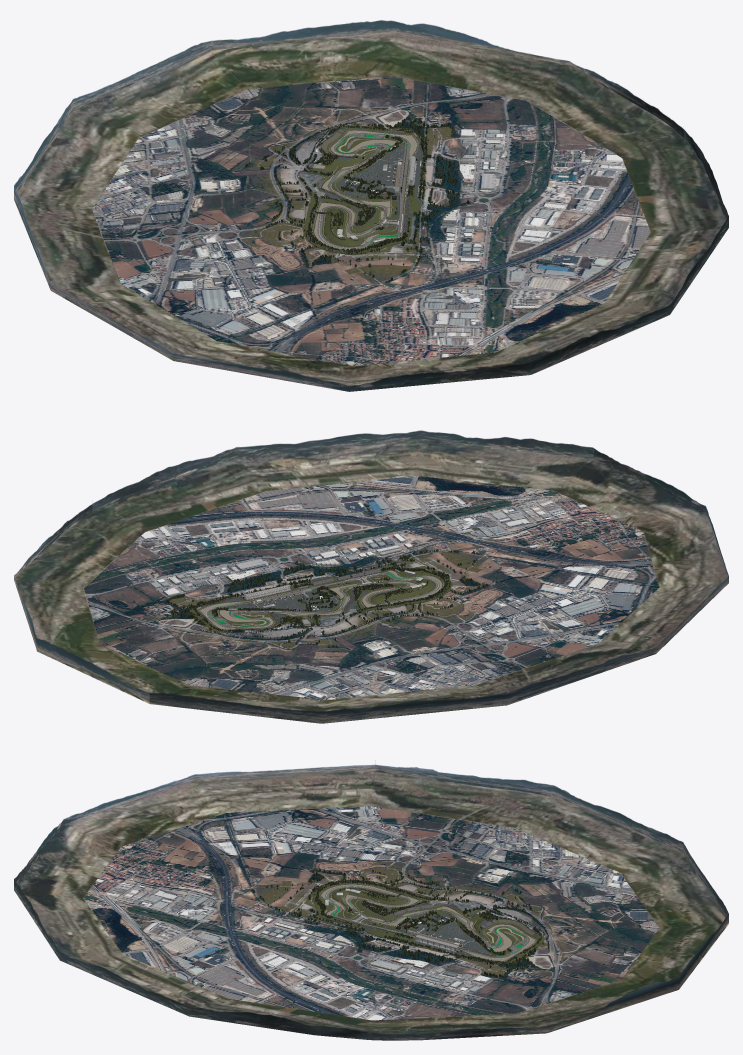
Rendered from barcelona.clean.glb.
3 views of the same model, one above another, from view 1: azimuth 30°, elevation 25°; view 2: azimuth 150°, elevation 25°; view 3: azimuth 270°, elevation 25° (orthographic). The views are drawn at different scales.
Parts seen in each view (by area): view 1: Object_92, Object_78, Object_31, Object_58, Object_95, Object_114, Object_21, Object_65, Object_94; view 2: Object_92, Object_78, Object_58, Object_31, Object_95, Object_114, Object_21, Object_65, Object_94, Object_116; view 3: Object_92, Object_78, Object_58, Object_31, Object_95, Object_114, Object_65, Object_21, Object_94, Object_116.
Boxes of the visible parts, x1=… form: Object_92: x1=92, y1=75, x2=650, y2=365; Object_78: x1=14, y1=20, x2=728, y2=391; Object_31: x1=303, y1=126, x2=424, y2=253; Object_58: x1=245, y1=117, x2=469, y2=282; Object_95: x1=309, y1=128, x2=422, y2=251; Object_114: x1=317, y1=133, x2=409, y2=248; Object_21: x1=314, y1=130, x2=417, y2=249; Object_65: x1=304, y1=123, x2=427, y2=252; Object_94: x1=312, y1=130, x2=418, y2=250; Object_92: x1=84, y1=476, x2=659, y2=699; Object_78: x1=14, y1=430, x2=728, y2=723; Object_58: x1=164, y1=549, x2=487, y2=647; Object_31: x1=190, y1=567, x2=451, y2=632; Object_95: x1=189, y1=575, x2=445, y2=630; Object_114: x1=206, y1=572, x2=439, y2=628; Object_21: x1=199, y1=570, x2=442, y2=629; Object_65: x1=185, y1=567, x2=448, y2=631; Object_94: x1=198, y1=570, x2=443, y2=630; Object_116: x1=196, y1=569, x2=423, y2=630; Object_92: x1=83, y1=806, x2=659, y2=1020; Object_78: x1=14, y1=764, x2=728, y2=1040; Object_58: x1=251, y1=868, x2=548, y2=977; Object_31: x1=312, y1=880, x2=544, y2=964; Object_95: x1=326, y1=882, x2=539, y2=956; Object_114: x1=325, y1=885, x2=529, y2=958; Object_65: x1=313, y1=879, x2=541, y2=964; Object_21: x1=321, y1=884, x2=534, y2=960; Object_94: x1=319, y1=884, x2=536, y2=961; Object_116: x1=324, y1=890, x2=537, y2=961.
Size of what is drawn, in the model's own units: 3723 by 188 by 4145.
Materials: 99 (99 with a texture image).
